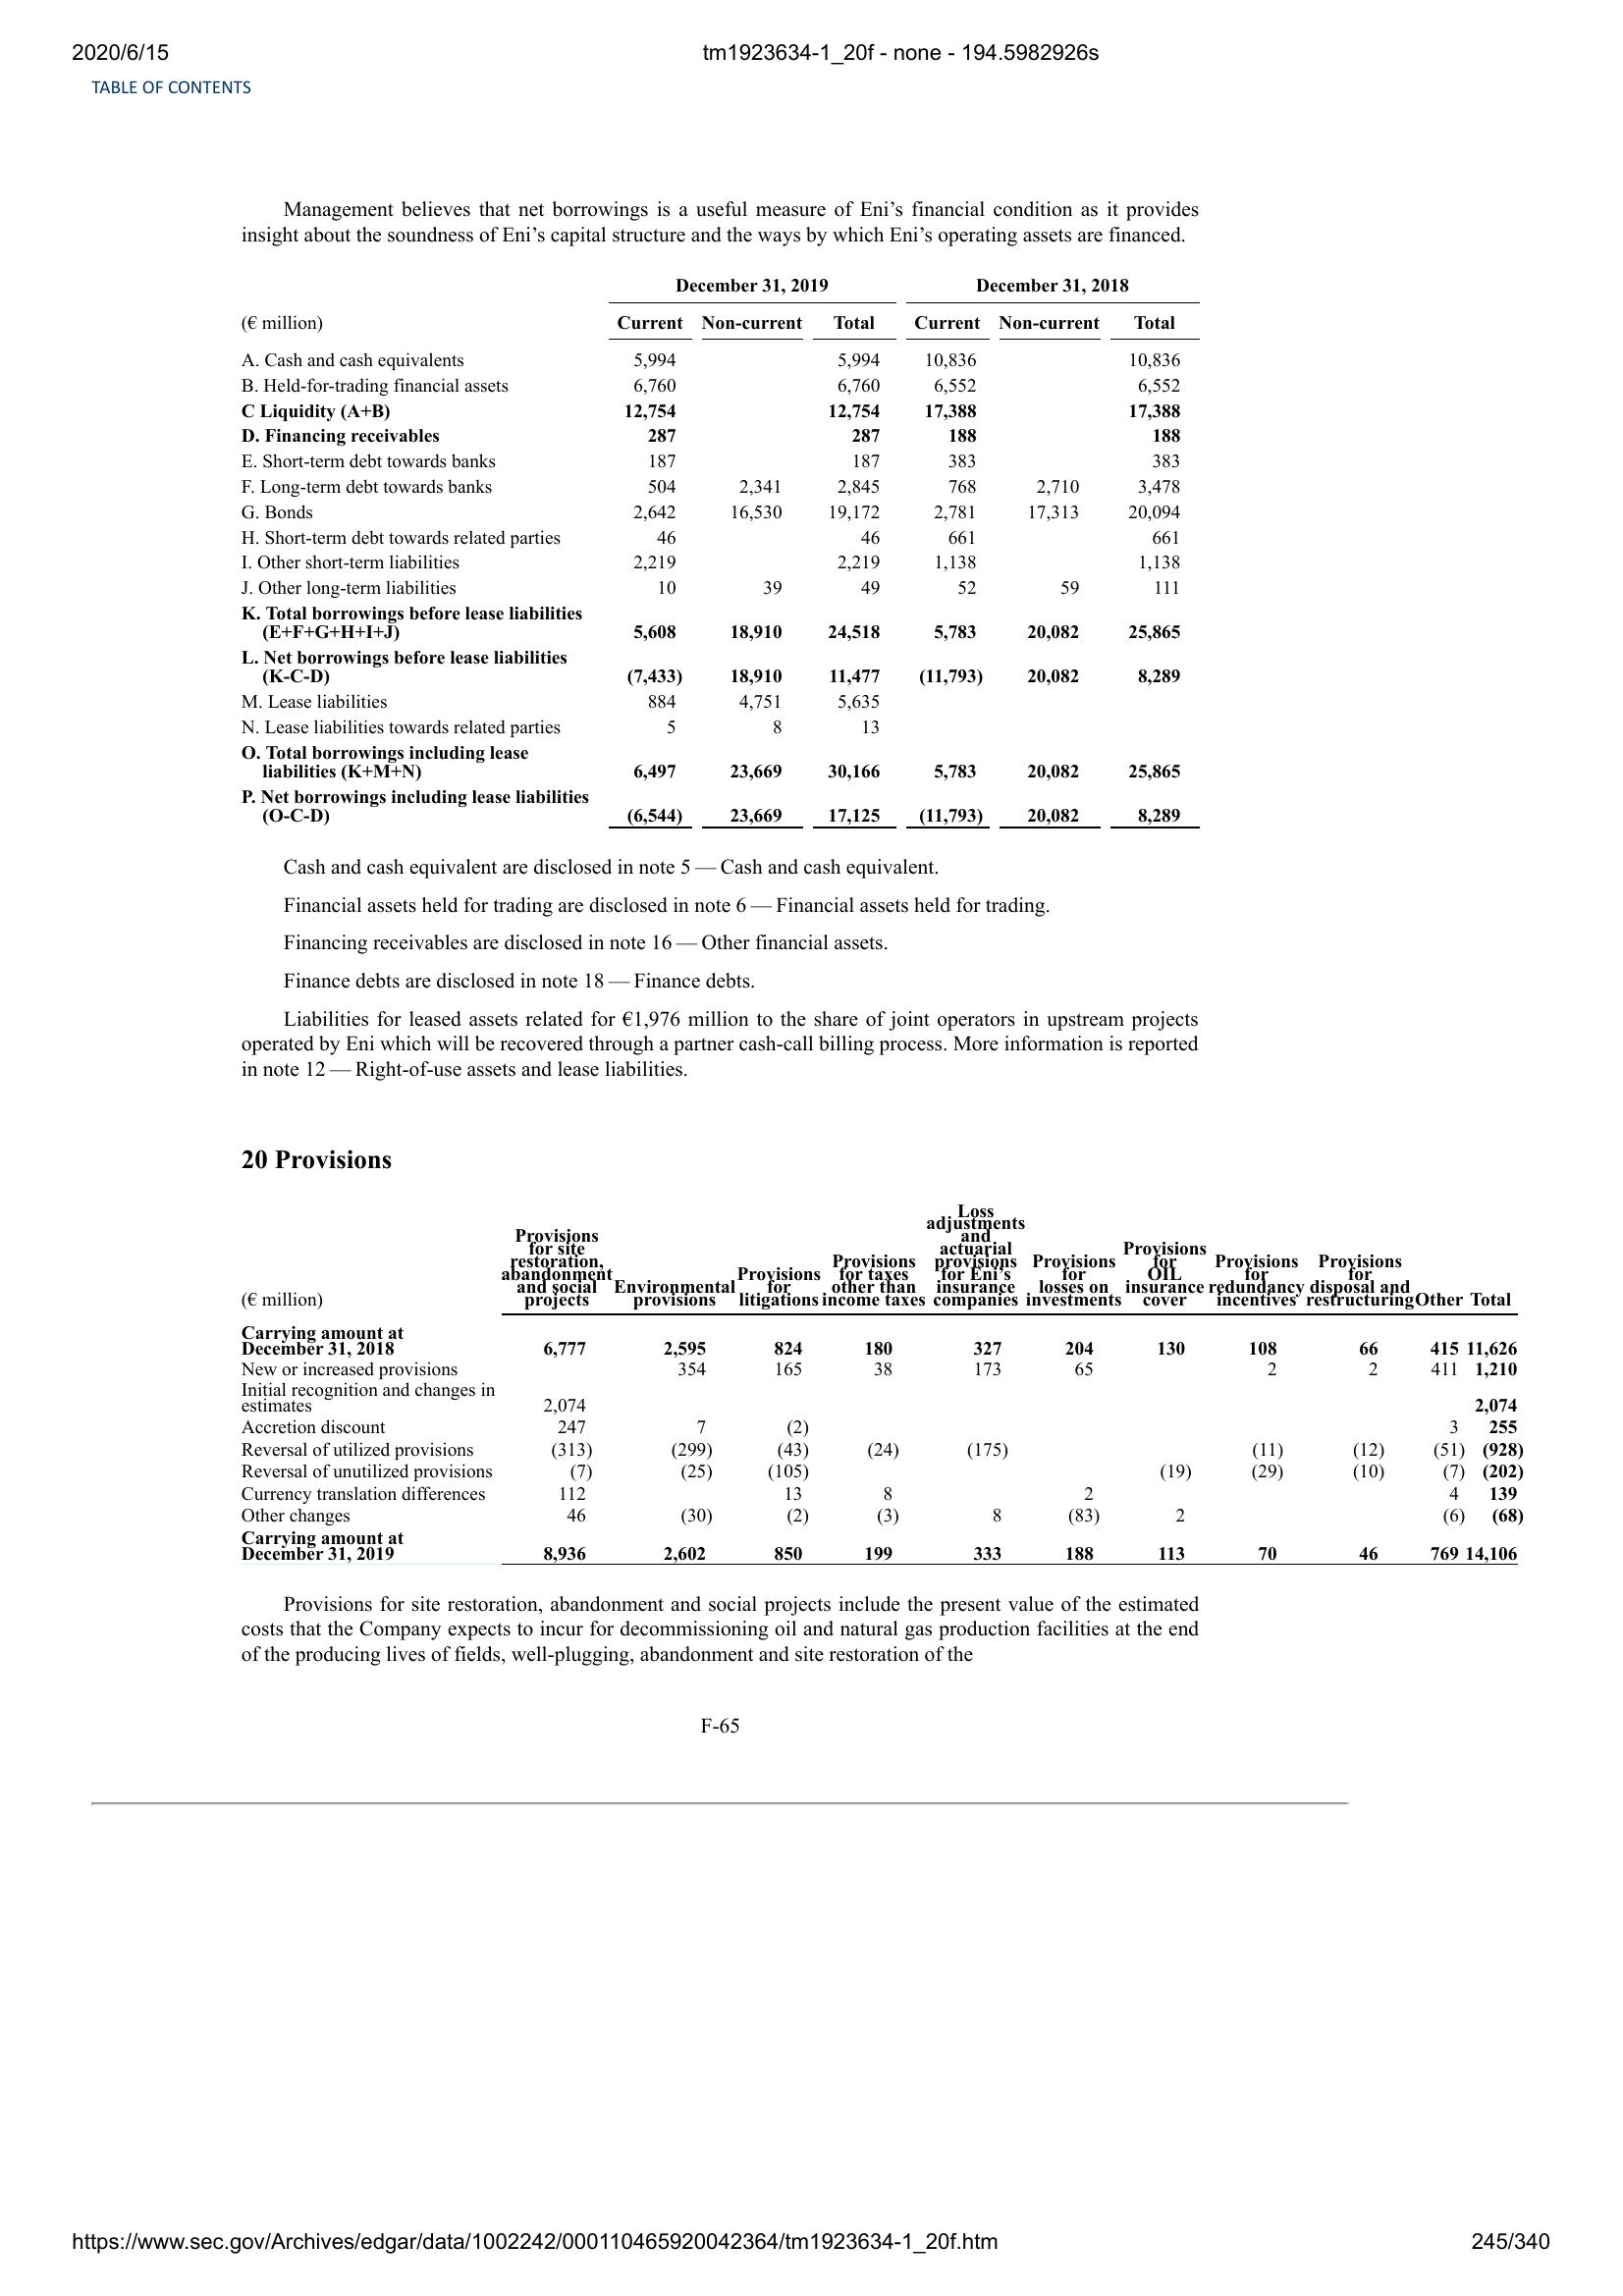table: (235, 276, 1200, 834), (232, 1199, 1521, 1573)
